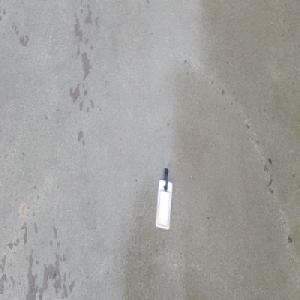LuggageTag: (154, 166, 173, 230)
